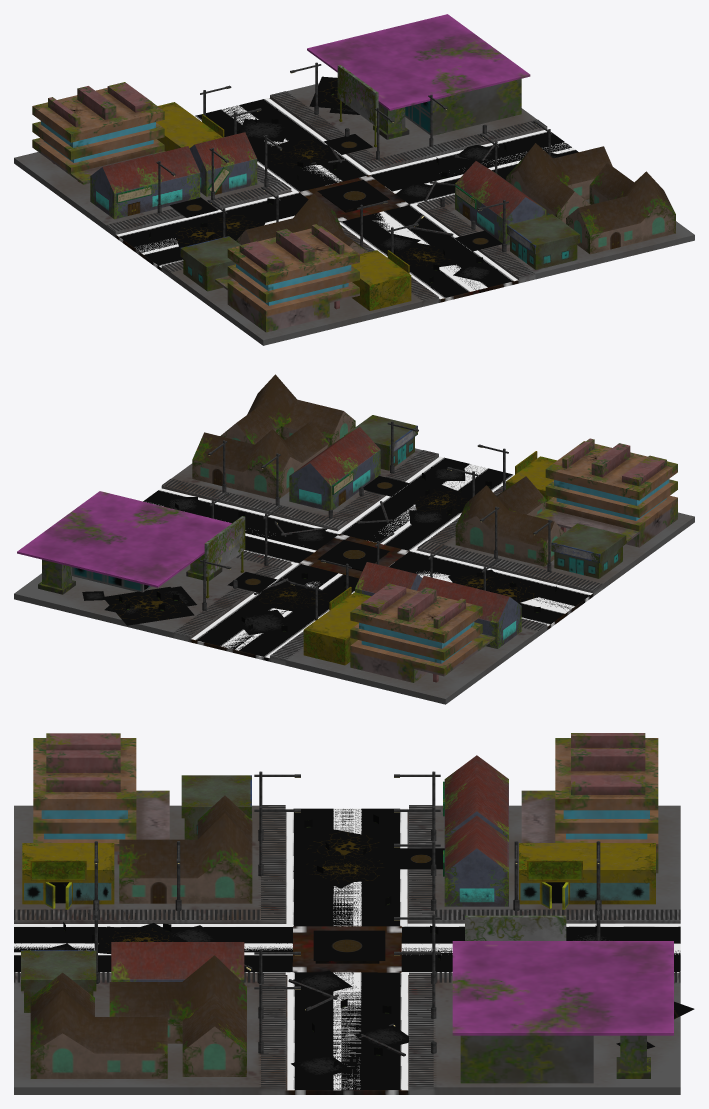
File: Terrain.fbx
3 renders of one model, top to bottom at view 1: azimuth 30°, elevation 25°; view 2: azimuth 150°, elevation 25°; view 3: azimuth 270°, elevation 25°, orthographic. The views are drawn at different scales.
Visible parts, largest first — view 1: Plane_RoadMarkers, Terrain, GasStation, Apartment2, Apartment1, HousingL2, ShopHouse1, HousingL1, ShopHouse2, ShopHouse3, BookShop2, Market2 (+14 smaller); view 2: Plane_RoadMarkers, Terrain, GasStation, Apartment2, Apartment1, HousingL1, HousingL, ShopHouse2, HousingL2, BookShop1, ShopHouse1, Market1 (+15 smaller); view 3: Plane_RoadMarkers, Terrain, GasStation, Apartment1, Apartment2, HousingL2, HousingL, HousingL1, Market1, Market2, ShopHouse3, ShopHouse2 (+14 smaller).
Boxes of the visible parts, box(x1,y1,x2,y2) form: Plane_RoadMarkers: box(106, 91, 578, 300); Terrain: box(14, 83, 694, 345); GasStation: box(307, 14, 530, 147); Apartment2: box(215, 224, 359, 332); Apartment1: box(32, 82, 165, 184); HousingL2: box(566, 162, 675, 254); ShopHouse1: box(90, 146, 200, 219); HousingL1: box(506, 143, 612, 223); ShopHouse2: box(455, 161, 546, 244); ShopHouse3: box(189, 132, 257, 196); BookShop2: box(506, 214, 580, 269); Market2: box(351, 250, 411, 310); Plane_RoadMarkers: box(143, 450, 602, 659); Terrain: box(14, 448, 694, 704); GasStation: box(17, 491, 245, 598); Apartment2: box(535, 438, 677, 547); Apartment1: box(350, 583, 495, 682); HousingL1: box(192, 420, 329, 498); HousingL: box(455, 476, 564, 566); ShopHouse2: box(289, 427, 380, 510); HousingL2: box(220, 374, 355, 445); BookShop1: box(551, 523, 626, 578); ShopHouse1: box(417, 576, 521, 648); Market1: box(303, 587, 370, 665); Plane_RoadMarkers: box(14, 805, 680, 1090); Terrain: box(14, 805, 680, 1094); GasStation: box(452, 915, 673, 1083); Apartment1: box(521, 733, 658, 873); Apartment2: box(33, 733, 169, 864); HousingL2: box(30, 972, 167, 1078); HousingL: box(119, 795, 252, 903); HousingL1: box(109, 955, 246, 1076); Market1: box(519, 843, 655, 909); Market2: box(22, 843, 114, 909); ShopHouse3: box(443, 815, 508, 906); ShopHouse2: box(111, 942, 244, 983).
Bounding box in the file's own units: 153 × 24.51 × 156.
